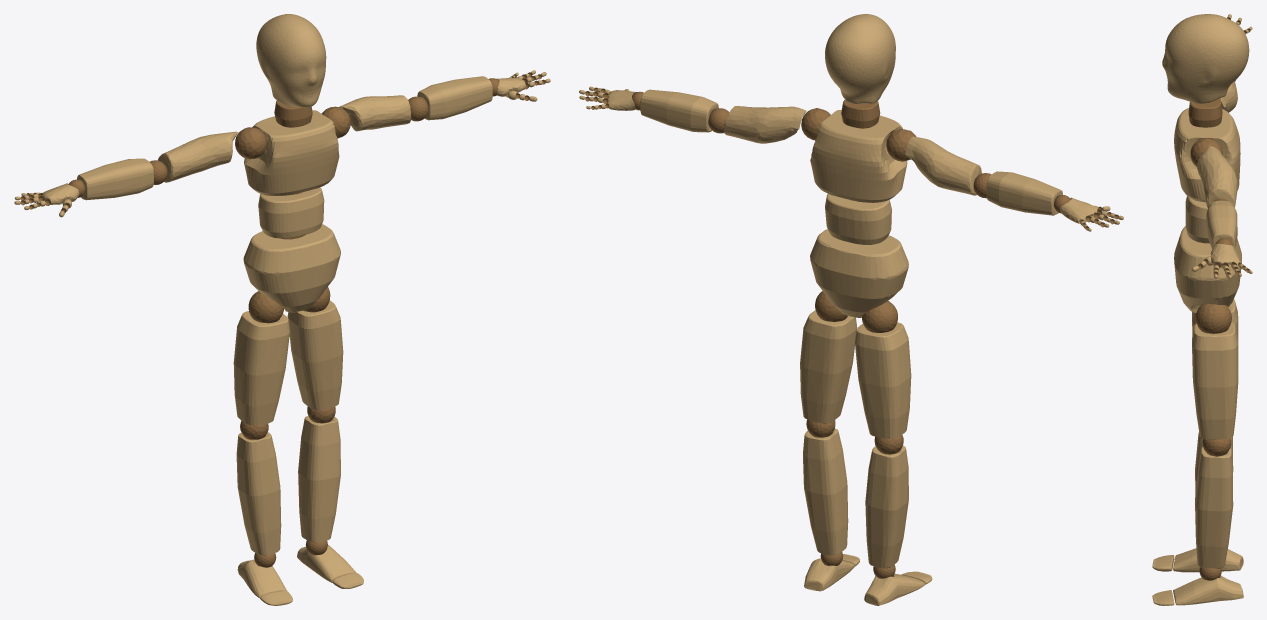
File: mannequin.glb
3 views of the same model, side by side, from view 1: azimuth 30°, elevation 25°; view 2: azimuth 150°, elevation 25°; view 3: azimuth 270°, elevation 25° (orthographic).
Parts seen in each view (by area): view 1: pelvis_shell, chest_shell, mannequin_head, thigh_R, thigh_L, shin_L, shin_R, abdomen_shell, forearm_R, upper_arm_R, forearm_L, upper_arm_L (+5 smaller); view 2: chest_shell, pelvis_shell, thigh_R, thigh_L, mannequin_head, shin_L, shin_R, abdomen_shell, upper_arm_R, upper_arm_L, forearm_L, forearm_R (+4 smaller); view 3: mannequin_head, thigh_L, shin_L, pelvis_shell, chest_shell, upper_arm_L, rear_foot_L, forearm_L, hip_ball_L, abdomen_shell, rear_foot_R, neck_pedestal (+9 smaller).
Part boxes in pixels (x1,y1,x2,y2): pelvis_shell: (243,224,340,312); chest_shell: (244,110,339,195); mannequin_head: (256,14,326,107); thigh_R: (233,311,289,425); thigh_L: (287,300,343,410); shin_L: (298,416,340,542); shin_R: (236,432,281,555); abdomen_shell: (258,187,324,238); forearm_R: (77,158,153,200); upper_arm_R: (157,131,238,182); forearm_L: (417,76,492,120); upper_arm_L: (339,95,411,131); chest_shell: (810,109,907,202); pelvis_shell: (810,229,908,317); thigh_R: (855,322,911,438); thigh_L: (800,310,857,423); mannequin_head: (825,14,895,104); shin_L: (803,428,848,555); shin_R: (865,445,908,568); abdomen_shell: (825,194,891,244); upper_arm_R: (905,136,981,195); upper_arm_L: (723,106,806,143); forearm_L: (640,89,718,132); forearm_R: (986,171,1062,215); mannequin_head: (1162,14,1249,103); thigh_L: (1192,322,1238,439); shin_L: (1195,446,1233,568); pelvis_shell: (1174,226,1241,312); chest_shell: (1174,108,1240,202); upper_arm_L: (1197,146,1237,207); rear_foot_L: (1173,575,1243,605); forearm_L: (1206,200,1237,249); hip_ball_L: (1195,304,1231,333); abdomen_shell: (1185,196,1209,243); rear_foot_R: (1173,548,1243,572); neck_pedestal: (1188,98,1222,127).
Bounding box in the file's own units: 1.72 × 1.73 × 0.2768.
